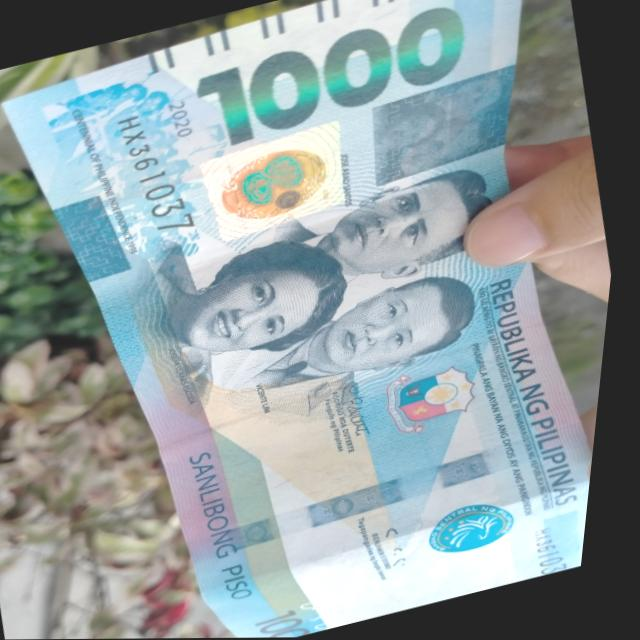concealed_value: (356, 64, 539, 188)
optically_variable_device: (194, 123, 360, 245)
serial_number: (91, 94, 226, 251)
value: (178, 0, 482, 160)
